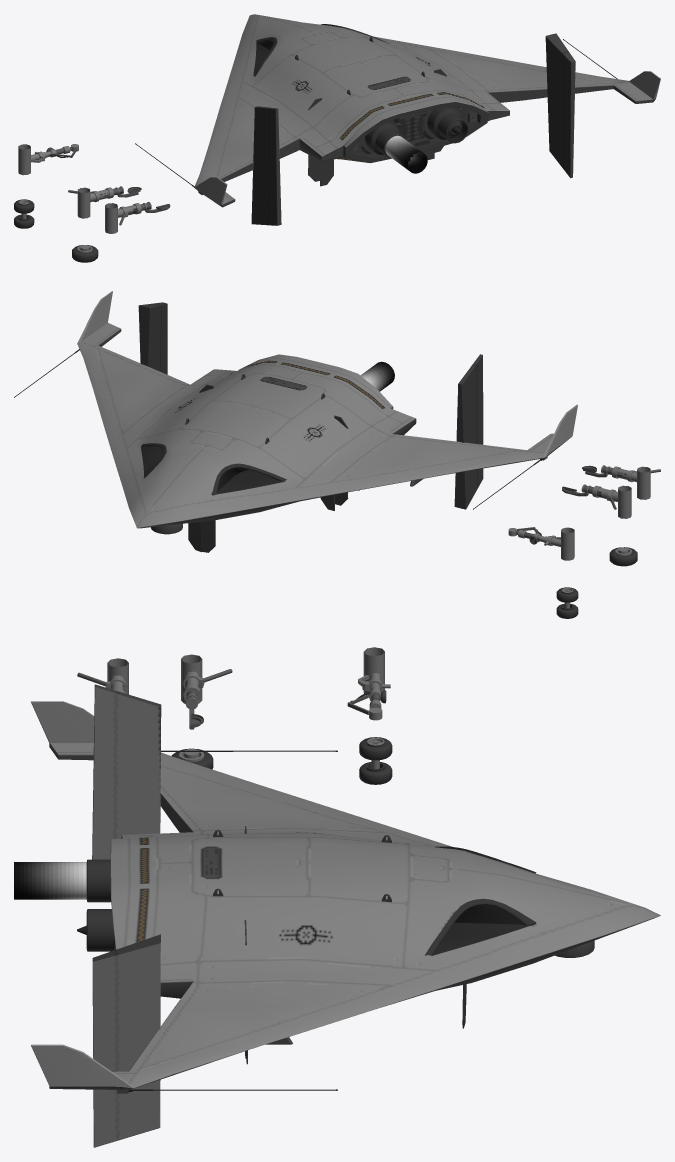
Rendered from manta_plane.fbx.
3 renders of one model, top to bottom at view 1: azimuth 30°, elevation 25°; view 2: azimuth 150°, elevation 25°; view 3: azimuth 270°, elevation 25°, orthographic. The views are drawn at different scales.
Parts seen in each view (by area): view 1: manta_plane_base, manta_plane_wingflap_right, manta_plane_wingflap_left, manta_plane_engine_particles, manta_plane_backlandinggear_right, manta_plane_backlandinggear_left, manta_plane_frontlandinggear, manta_plane_frontwheel, manta_plane_backwheel, manta_plane_backdoor_left_l; view 2: manta_plane_base, manta_plane_wingflap_left, manta_plane_wingflap_right, manta_plane_backlandinggear_right, manta_plane_backlandinggear_left, manta_plane_engine_particles, manta_plane_frontlandinggear, manta_plane_frontwheel, manta_plane_backwheel; view 3: manta_plane_base, manta_plane_wingflap_right, manta_plane_wingflap_left, manta_plane_engine_particles, manta_plane_frontwheel, manta_plane_backlandinggear_right, manta_plane_frontlandinggear, manta_plane_backlandinggear_left.
Boxes of the visible parts, <box> form: manta_plane_base: <box>135,14,660,207</box>; manta_plane_wingflap_right: <box>545,33,575,178</box>; manta_plane_wingflap_left: <box>251,106,281,225</box>; manta_plane_engine_particles: <box>385,135,427,173</box>; manta_plane_backlandinggear_right: <box>68,187,113,218</box>; manta_plane_backlandinggear_left: <box>105,203,141,233</box>; manta_plane_frontlandinggear: <box>18,144,46,175</box>; manta_plane_frontwheel: <box>14,199,34,228</box>; manta_plane_backwheel: <box>72,245,98,262</box>; manta_plane_backdoor_left_l: <box>308,98,321,181</box>; manta_plane_base: <box>14,291,577,534</box>; manta_plane_wingflap_left: <box>454,354,483,509</box>; manta_plane_wingflap_right: <box>138,302,167,374</box>; manta_plane_backlandinggear_right: <box>592,485,631,518</box>; manta_plane_backlandinggear_left: <box>611,466,660,499</box>; manta_plane_engine_particles: <box>360,361,394,391</box>; manta_plane_frontlandinggear: <box>543,527,574,560</box>; manta_plane_frontwheel: <box>556,587,578,618</box>; manta_plane_backwheel: <box>609,547,637,566</box>; manta_plane_base: <box>31,701,660,1093</box>; manta_plane_wingflap_right: <box>92,934,160,1147</box>; manta_plane_wingflap_left: <box>92,684,161,859</box>; manta_plane_engine_particles: <box>14,862,86,899</box>; manta_plane_frontwheel: <box>359,737,392,784</box>; manta_plane_backlandinggear_right: <box>181,654,232,703</box>; manta_plane_frontlandinggear: <box>358,647,390,694</box>; manta_plane_backlandinggear_left: <box>77,658,128,694</box>.
Size of the model in its own units: 1518 by 378 by 970.
3 materials, 3 textured.
